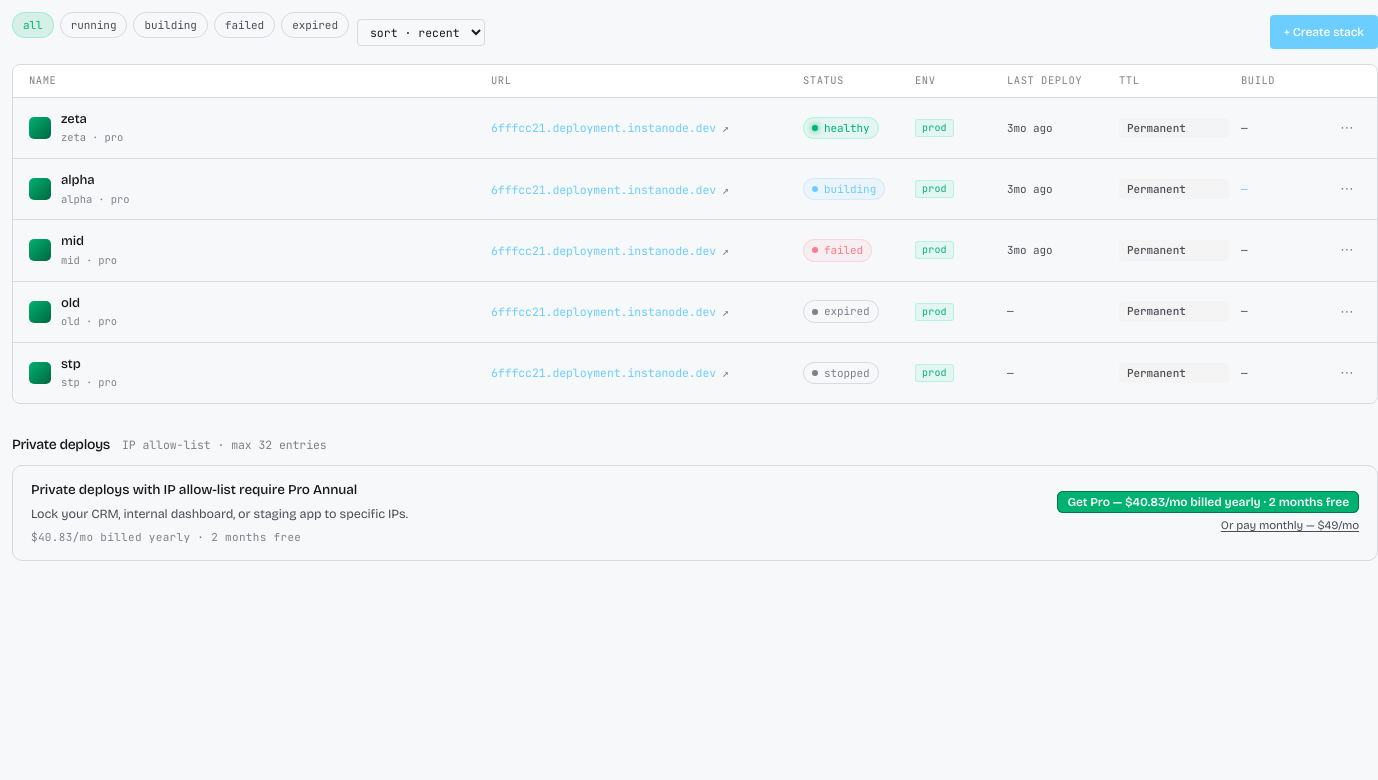
DeploymentsPage — filter + sort › buckets stopped + expired under the "expired" filter
The image size is (1378, 780).
Check: the text "old" is shown, box x1=61 y1=294 x2=80 y2=310
Click the button with test id "status-filter-expired": (315, 25) x1=281 y1=12 x2=349 y2=38
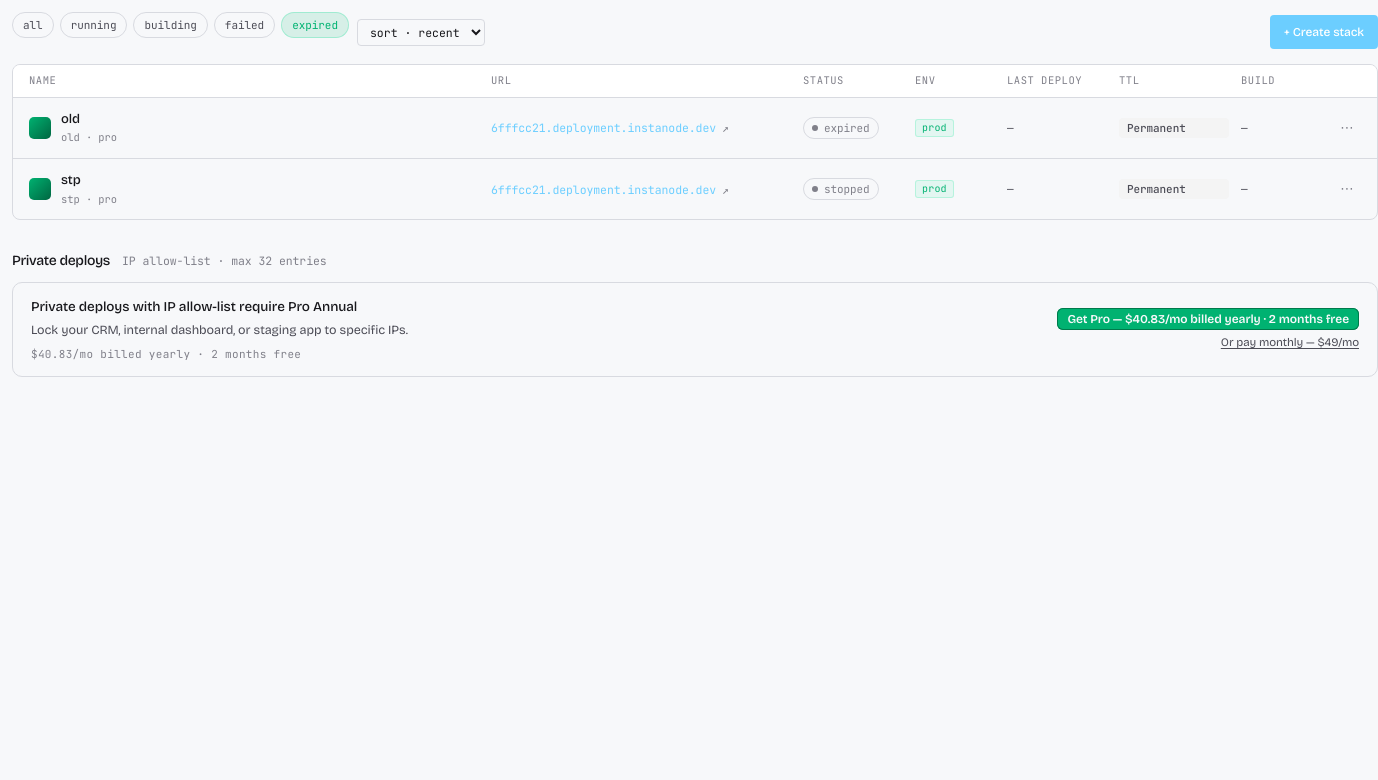
Check: the text "old" is shown, box x1=61 y1=111 x2=80 y2=127
Check: the text with test id "deployment-row-name-b1" is gone
